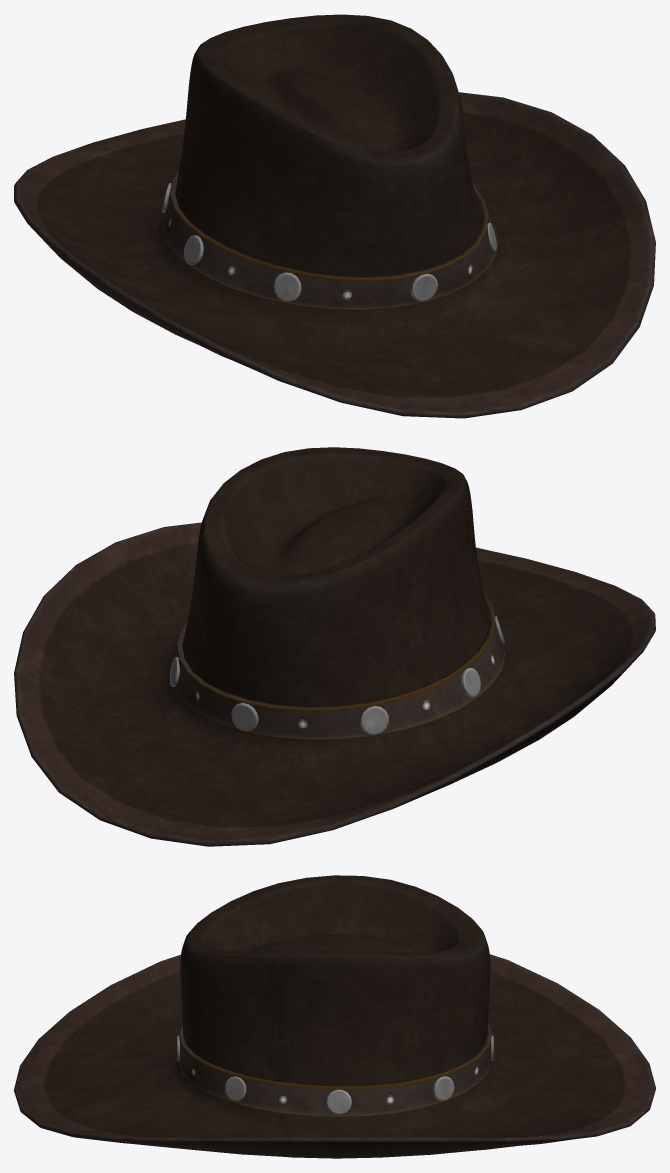
Rendered from hat2.gltf.
The picture shows the model from 3 angles, top to bottom: view 1: azimuth 30°, elevation 25°; view 2: azimuth 150°, elevation 25°; view 3: azimuth 270°, elevation 25°; orthographic projection. The views are drawn at different scales.
Visible parts, largest first — view 1: Object_2.001; view 2: Object_2.001; view 3: Object_2.001.
Boxes of the visible parts, left/top/right/bottom form: Object_2.001: left=14, top=14, right=655, bottom=418; Object_2.001: left=14, top=447, right=655, bottom=846; Object_2.001: left=14, top=875, right=655, bottom=1158.
Bounding box in the file's own units: 30.38 × 11.79 × 38.6.
1 material, 1 textured.
